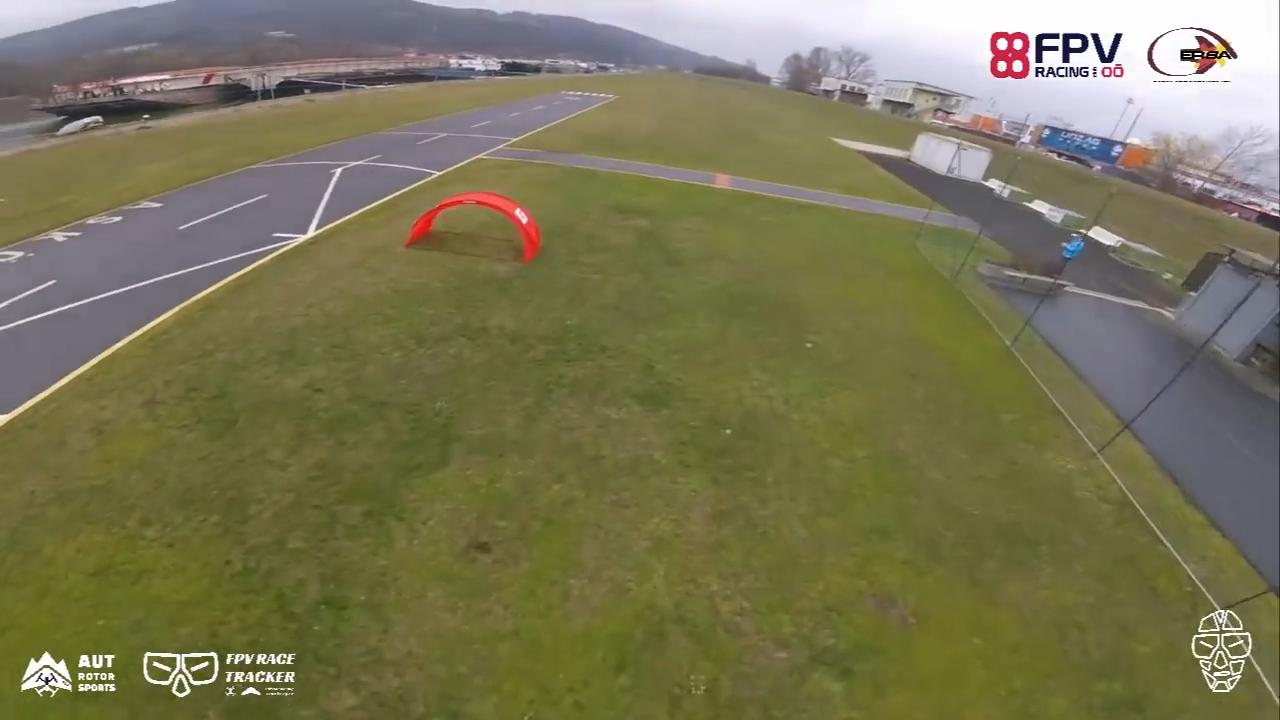gate: (400, 189, 544, 266)
